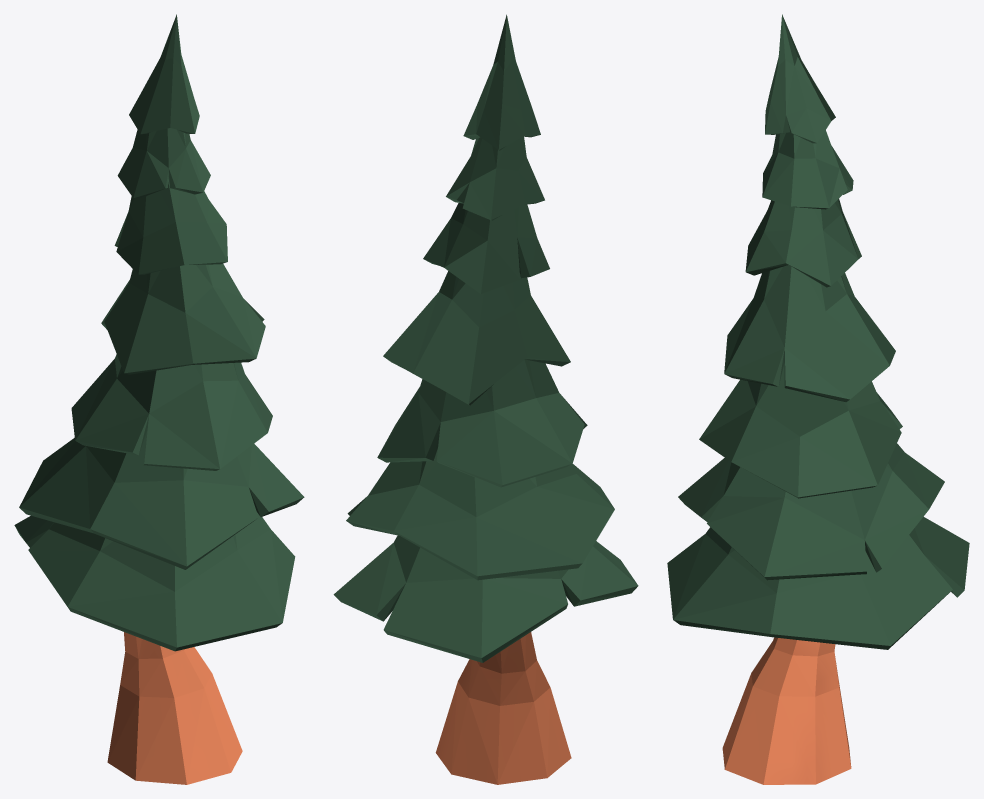
Rendered from TreePineA.FBX.
The picture shows the model from 3 angles, left to right: view 1: azimuth 30°, elevation 25°; view 2: azimuth 150°, elevation 25°; view 3: azimuth 270°, elevation 25°; orthographic projection.
Parts seen in each view (by area): view 1: TreePineA; view 2: TreePineA; view 3: TreePineA.
Boxes of the visible parts, x1,y1,x2,y2 form: TreePineA: (14,14,304,784); TreePineA: (333,14,638,784); TreePineA: (667,14,969,784).
Size of the model in its own units: 195 by 575 by 212.
